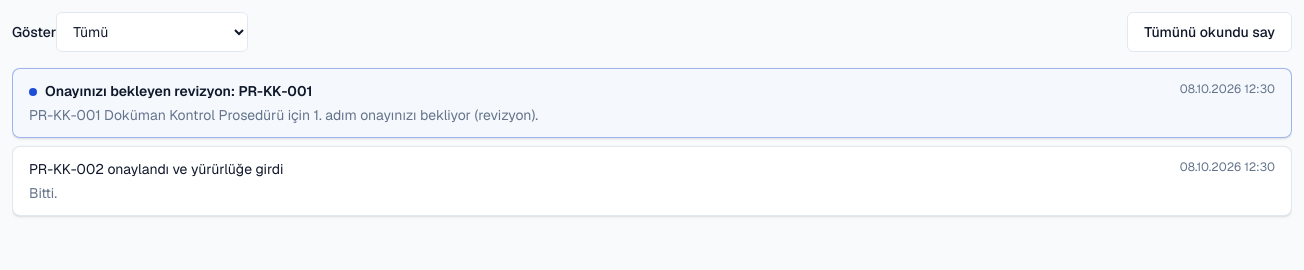
Test case: NotificationList › still goes there when marking fails, and says so
Click the button that starts with "Onayınızı bekleyen revizyon: PR-KK-001". click: (179, 91)
box: [13,69,1291,137]
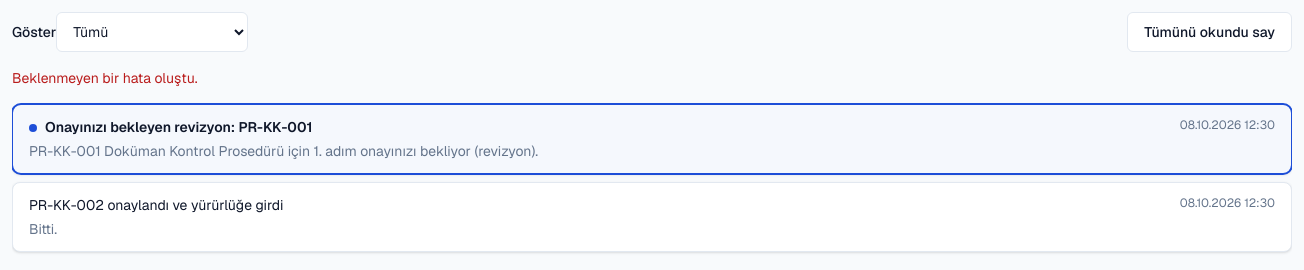
Now the message reads "Beklenmeyen bir hata oluştu.", box [12,69,198,87]
